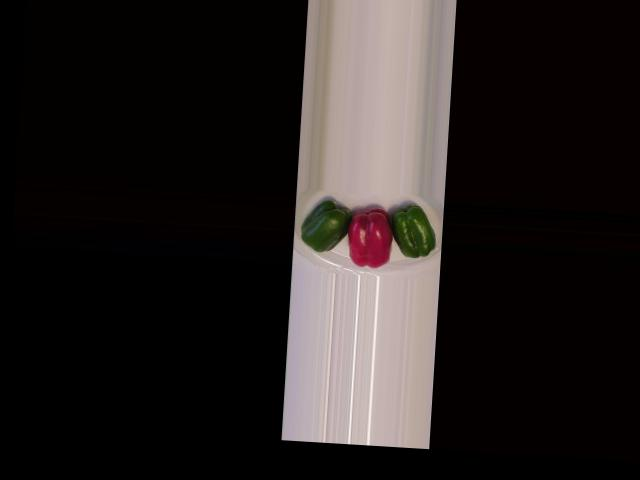bell_pepper: (296, 193, 353, 260)
